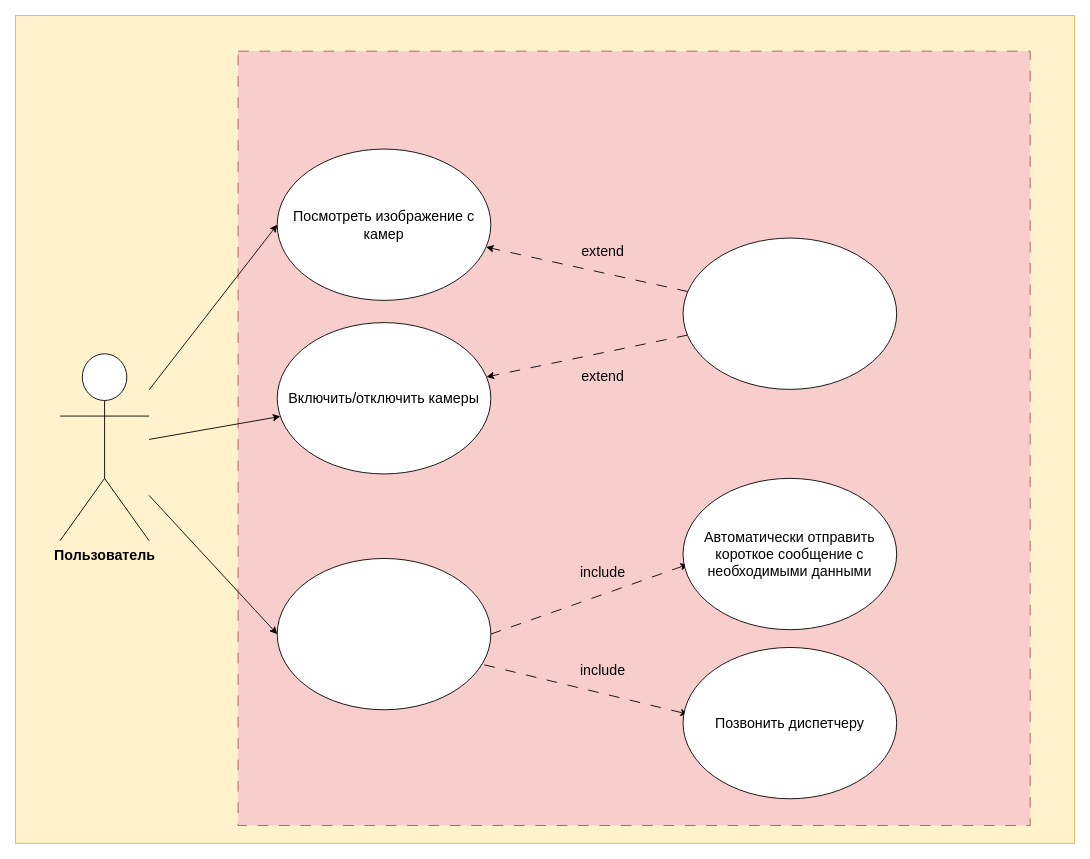
The diagram is 1090 pixels wide and 859 high, and some of its shapes have lost their labels. The shapes that lost their labels are listed below. From the top down, each one's centre as x and y in pixels, then its label:
[789,313]: Выбрать конкретную камеру по фильтрам
[383,634]: Вызвать экстренные службы
